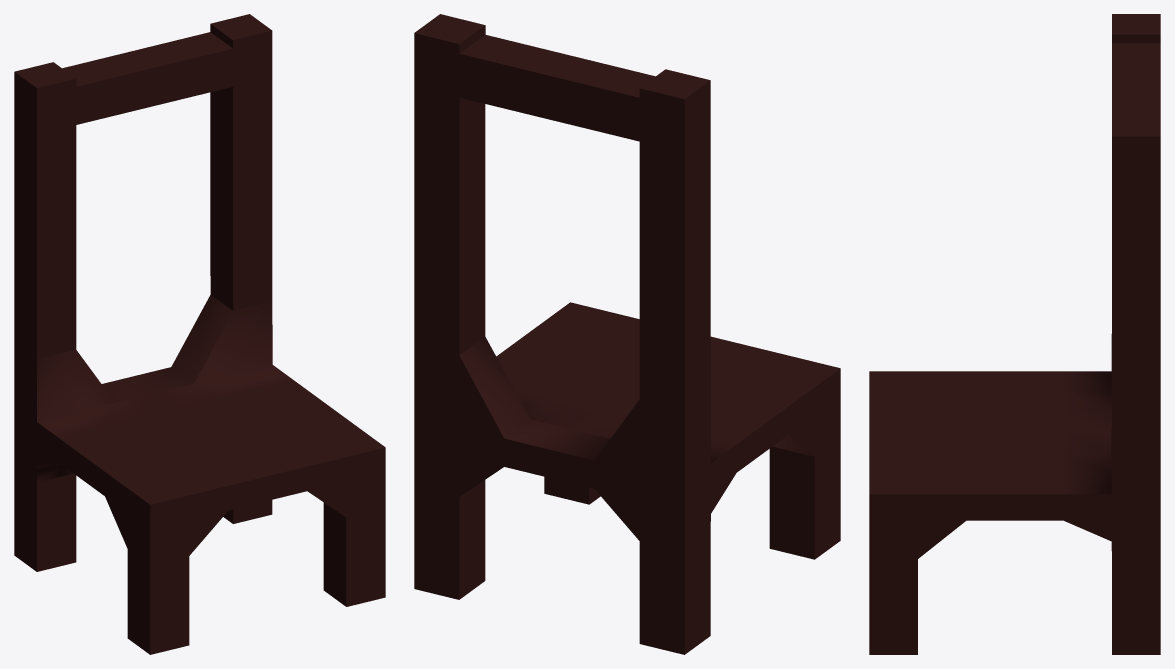
File: chair.fbx
The picture shows the model from 3 angles, left to right: view 1: azimuth 30°, elevation 25°; view 2: azimuth 150°, elevation 25°; view 3: azimuth 270°, elevation 25°; orthographic projection. The views are drawn at different scales.
Visible parts, largest first — view 1: pCube17; view 2: pCube17; view 3: pCube17.
Boxes of the visible parts, x1=… form: pCube17: x1=14, y1=14, x2=385, y2=654; pCube17: x1=414, y1=14, x2=840, y2=654; pCube17: x1=869, y1=14, x2=1160, y2=654.
Size of the model in its own units: 120 by 236 by 120.
